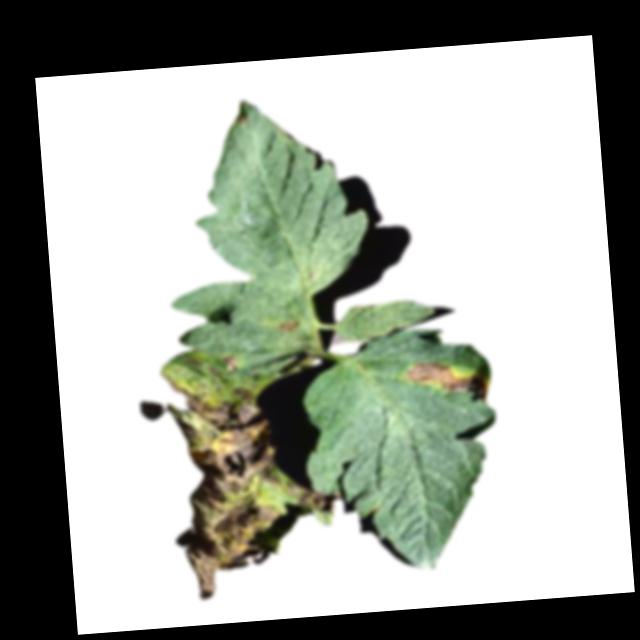Early_blight: (162, 349, 347, 602), (401, 352, 497, 412), (277, 320, 300, 334)
